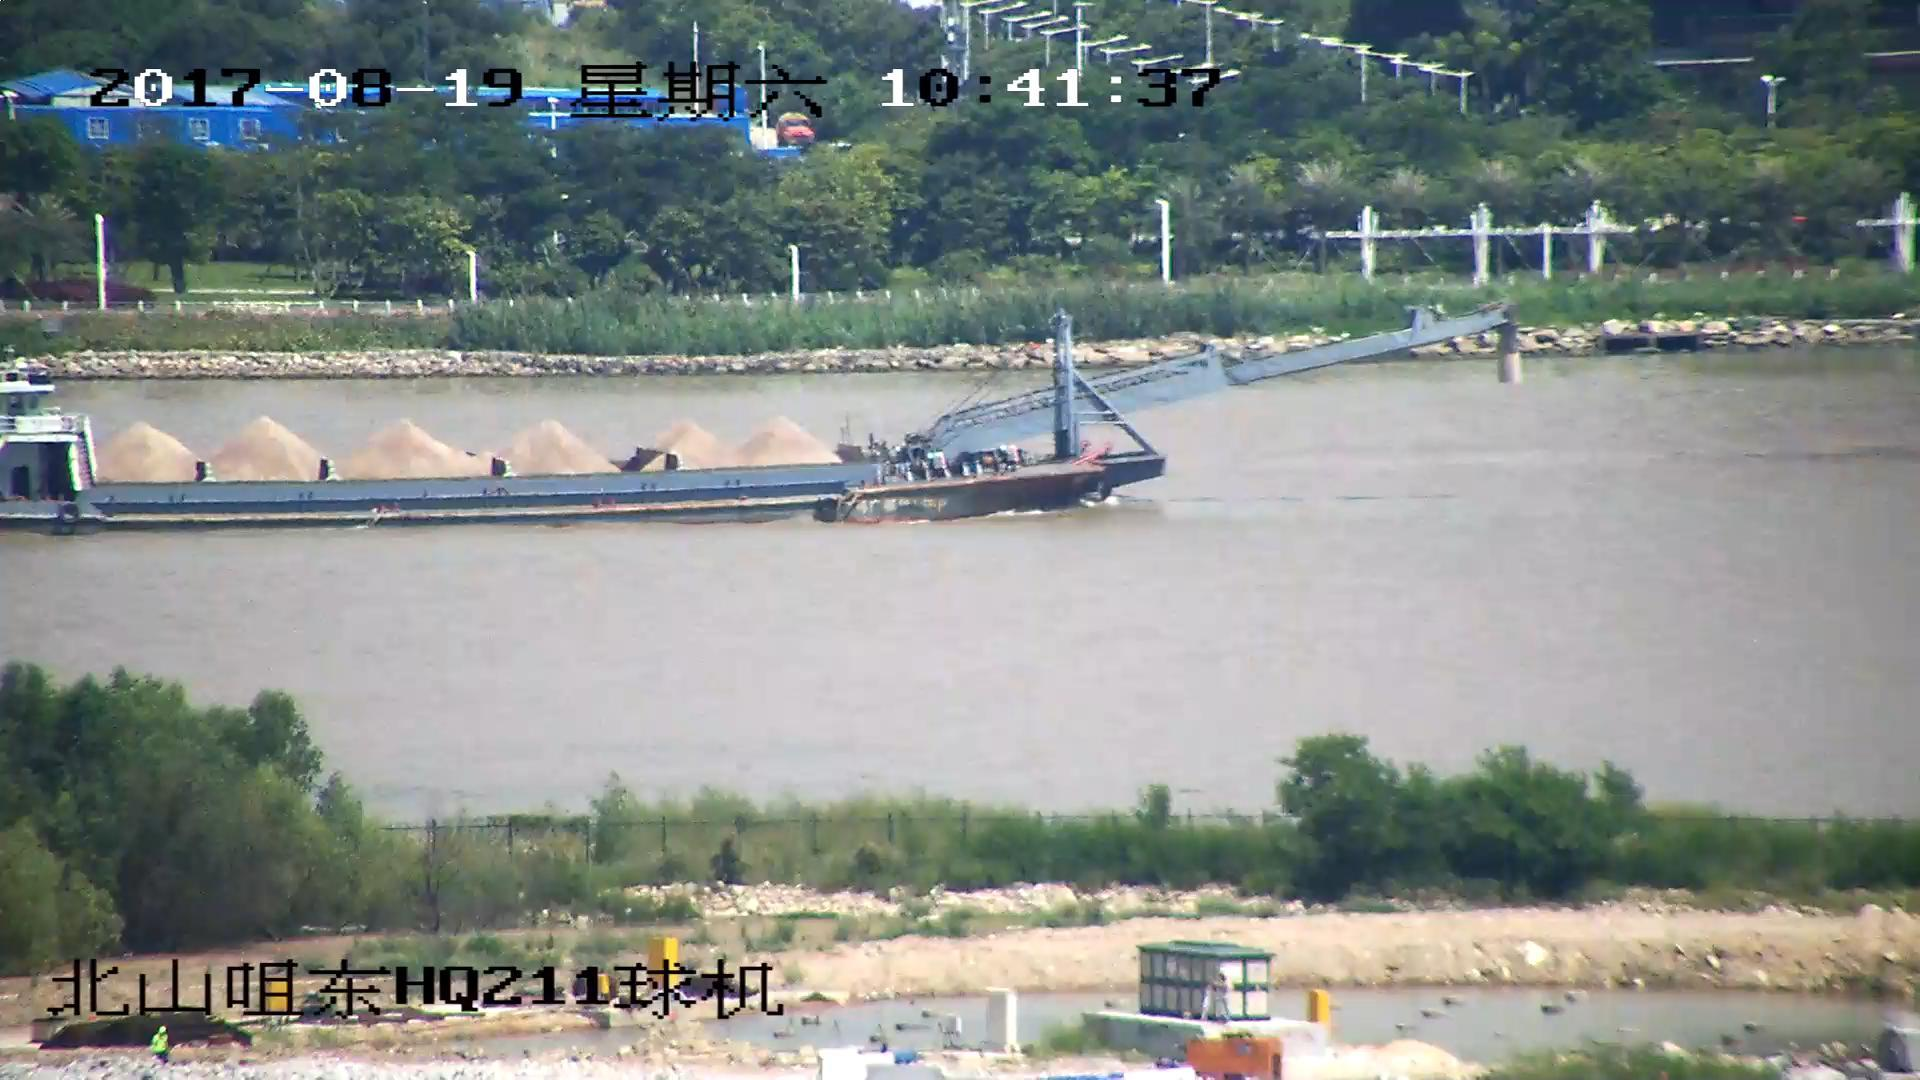Ship: (3, 305, 1513, 535)
